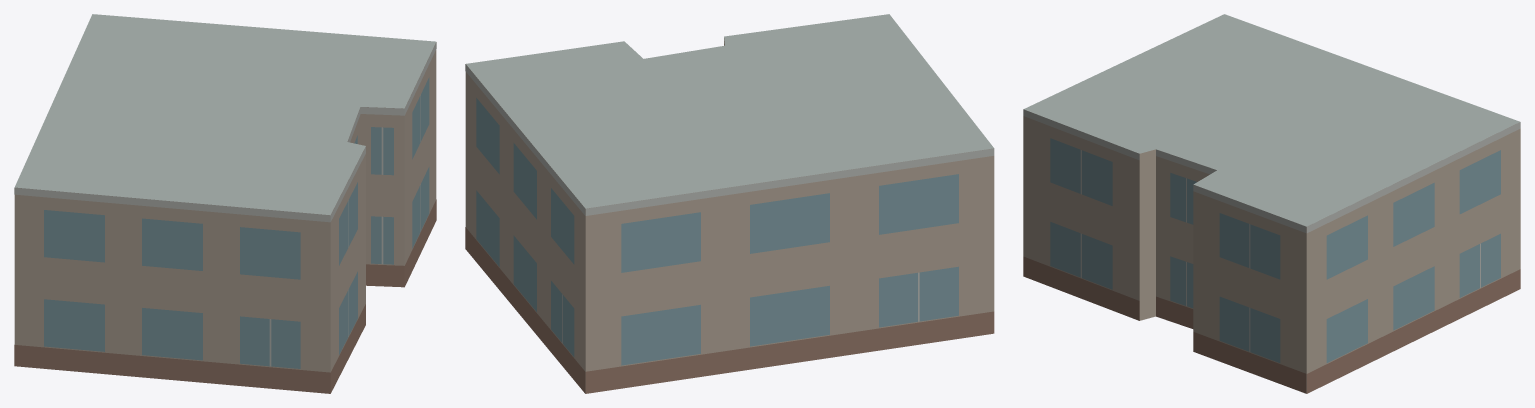
Rendered from survey-upis-32773199.glb.
3 views of the same model, side by side, from view 1: azimuth 30°, elevation 25°; view 2: azimuth 150°, elevation 25°; view 3: azimuth 270°, elevation 25° (orthographic). The views are drawn at different scales.
Parts seen in each view (by area): view 1: survey-upis-32773199.tmp; view 2: survey-upis-32773199.tmp; view 3: survey-upis-32773199.tmp.
Part boxes in pixels (<box>): survey-upis-32773199.tmp: <box>14,14,436,393</box>; survey-upis-32773199.tmp: <box>465,14,994,393</box>; survey-upis-32773199.tmp: <box>1023,14,1520,393</box>.
Size of the model in its own units: 16.66 by 6.1 by 16.45.
